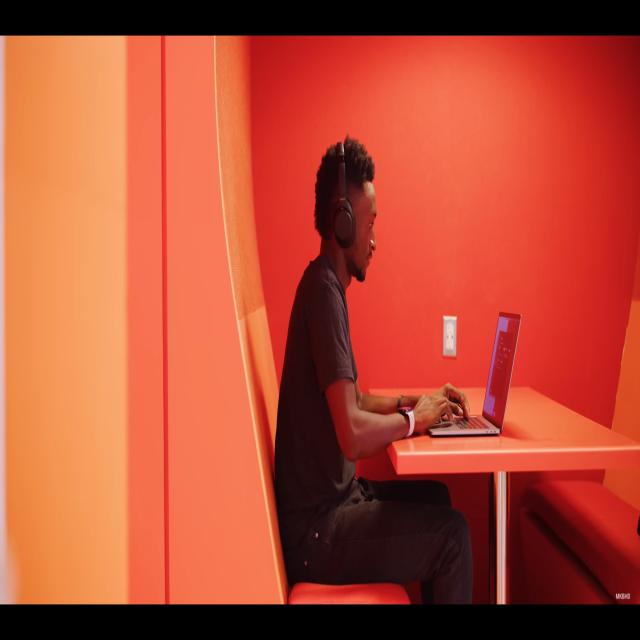Headphone: (332, 141, 356, 249)
